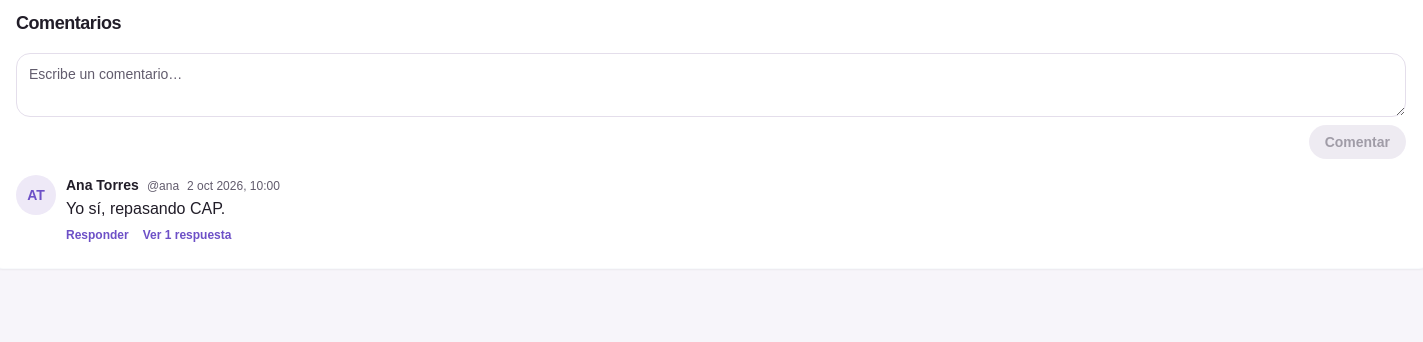
Test case: adds a new comment without reloading and reports it
Check: the text "Yo sí, repasando CAP." is shown, box [66,200,225,217]
Type "  Nuevo comentario  " into the text box named "Texto del comentario" at (711, 85), box [16,53,1406,117]
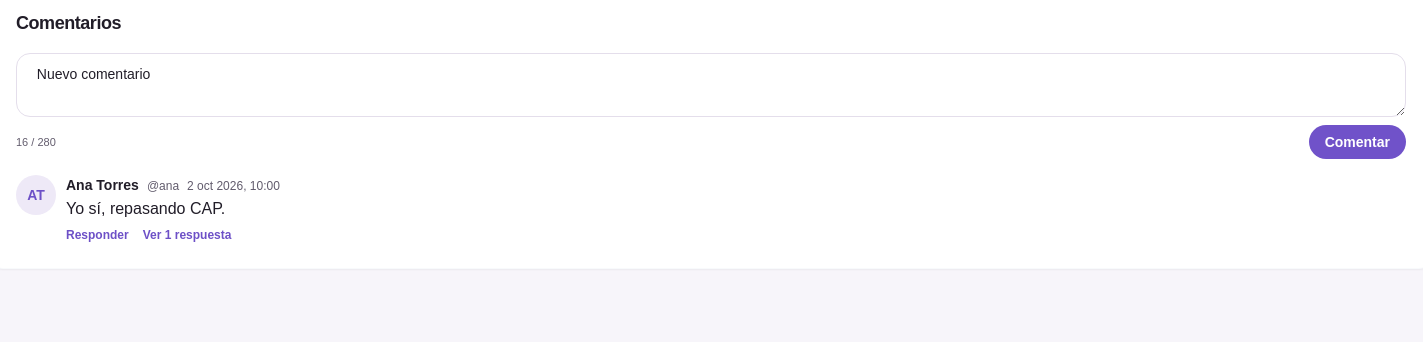
Click the button "Comentar" at (1357, 142), box [1309,125,1406,159]
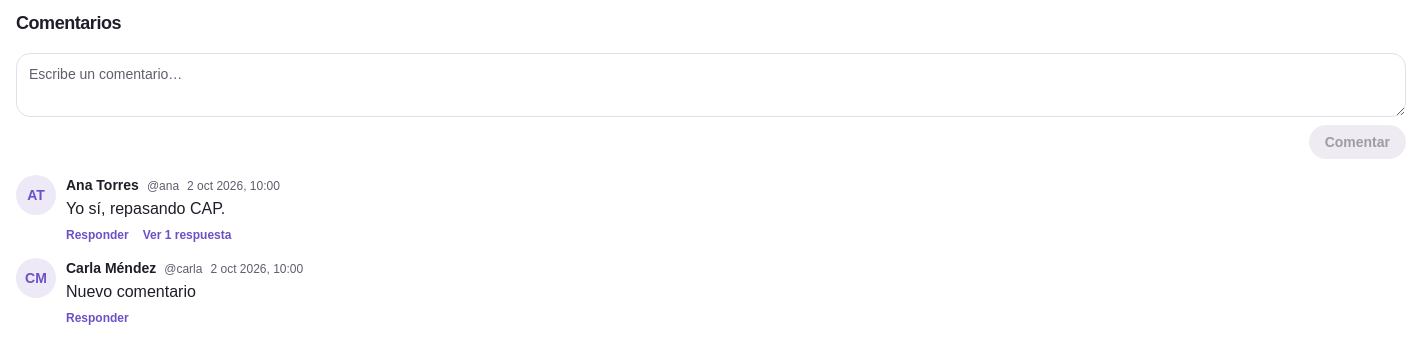
Check: the text "Nuevo comentario" is shown, box [66,283,196,300]
Check: the text box named "Texto del comentario" is empty, box [16,53,1406,117]
